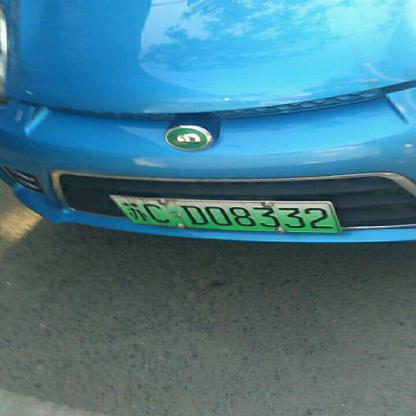lp: (110, 195, 340, 232)
